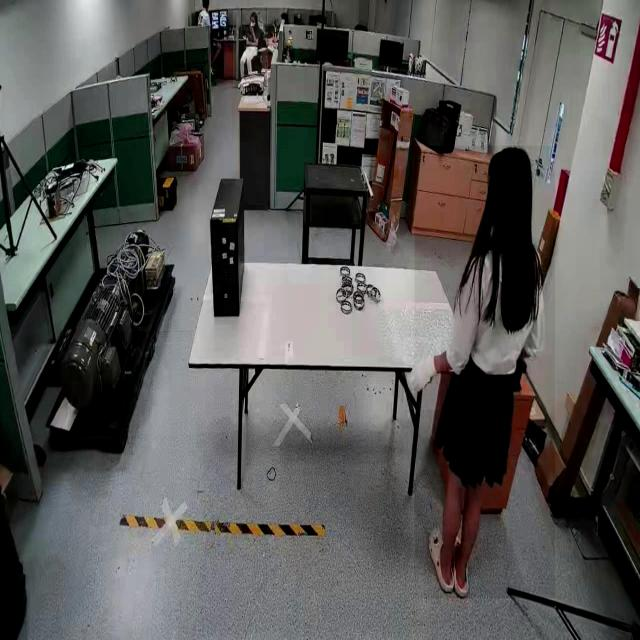hand_glove: (403, 337, 441, 411)
head_nohelmet: (488, 147, 532, 180), (250, 11, 258, 17)
person: (414, 146, 555, 599), (232, 11, 268, 87)
